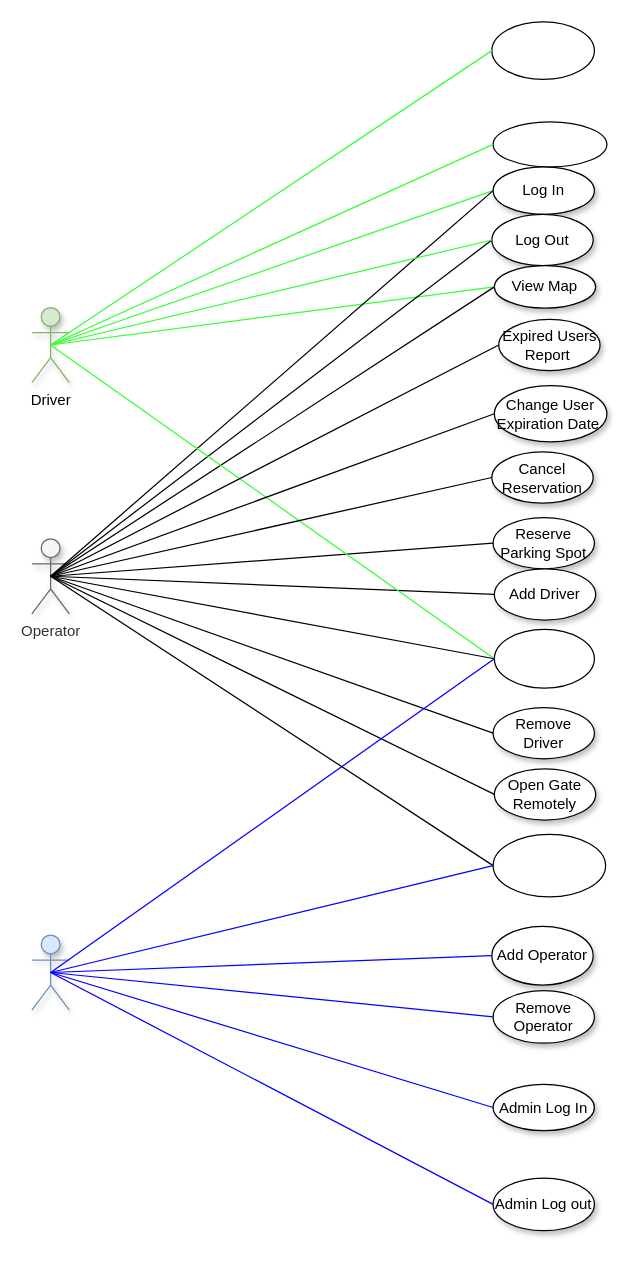
The diagram is 636 pixels wide and 1261 high, and some of its shapes have lost their labels. Each missing label, with the centre of its shape:
Admin: the point at 51,974
Change My Password: the point at 543,658
Change others Password: the point at 549,865
Free Parking Spot: the point at 549,144
Occupy Parking Spot: the point at 542,50
